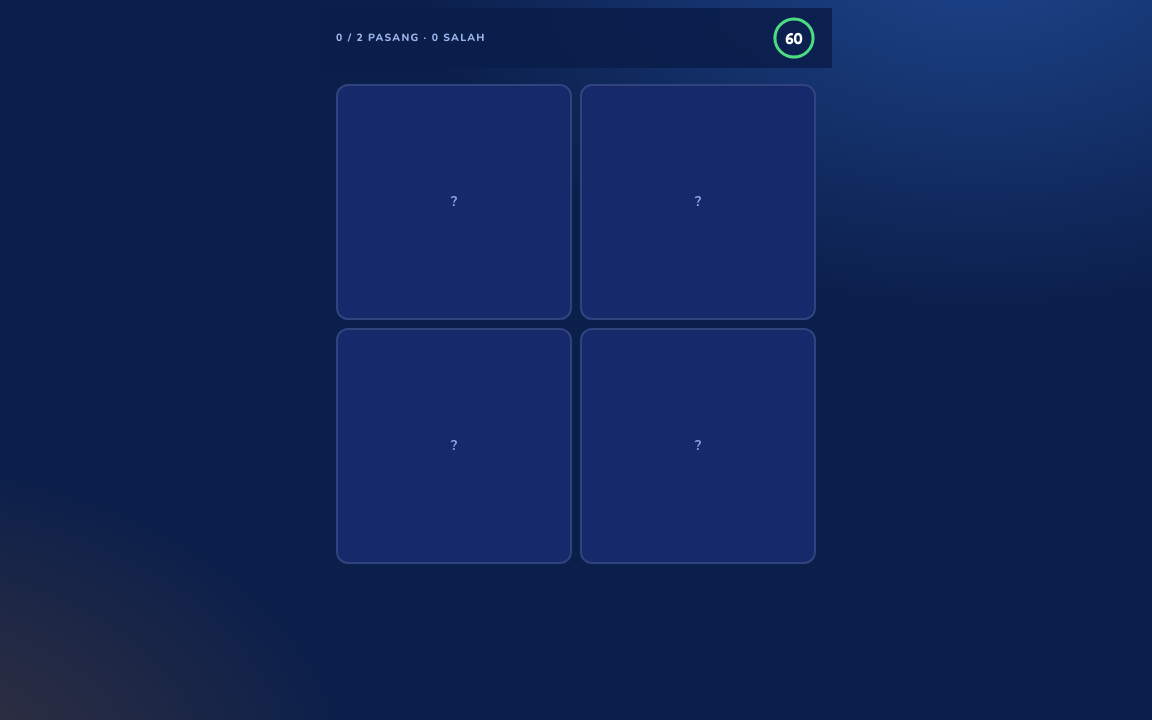
Test: MemoryMatch › lets the player continue early with the Lanjut button
Click the 1st button "?" at (454, 202), box left=336, top=84, right=572, bottom=320
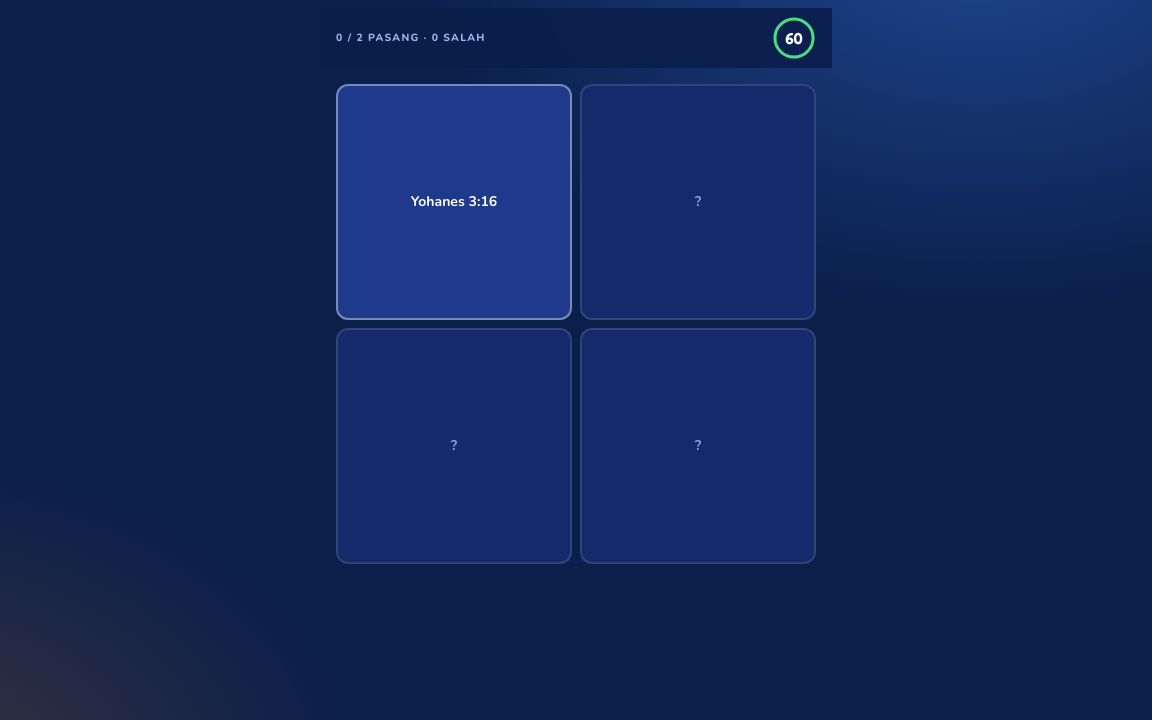
Click the 2nd button "?" at (454, 446), box left=336, top=328, right=572, bottom=564
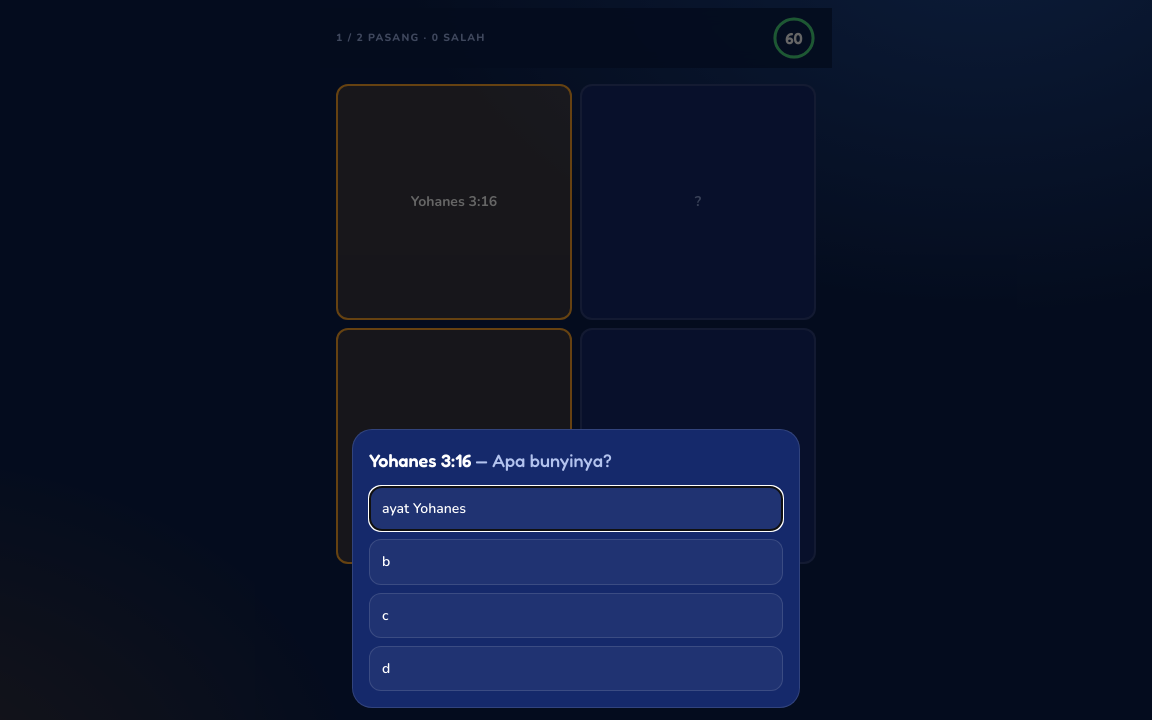
Click the button "ayat Yohanes" at (424, 508), box left=369, top=486, right=783, bottom=531
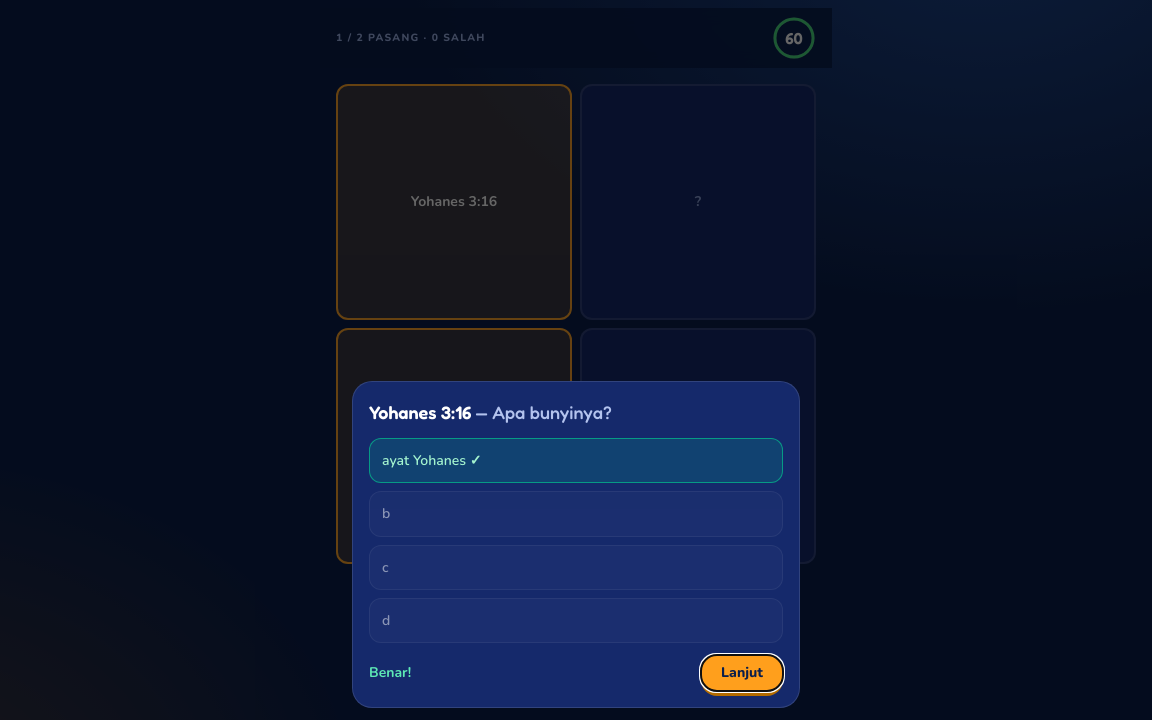
Click the button "Lanjut" at (742, 673), box left=701, top=655, right=783, bottom=691
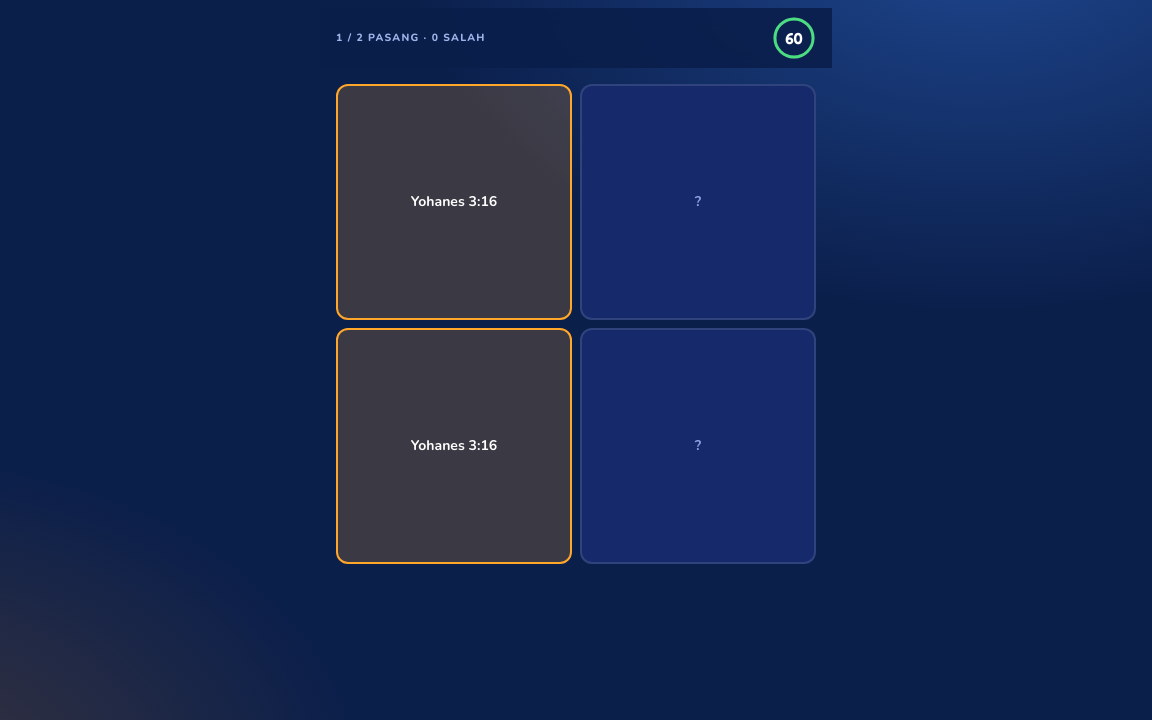
Expected: the dialog is gone
